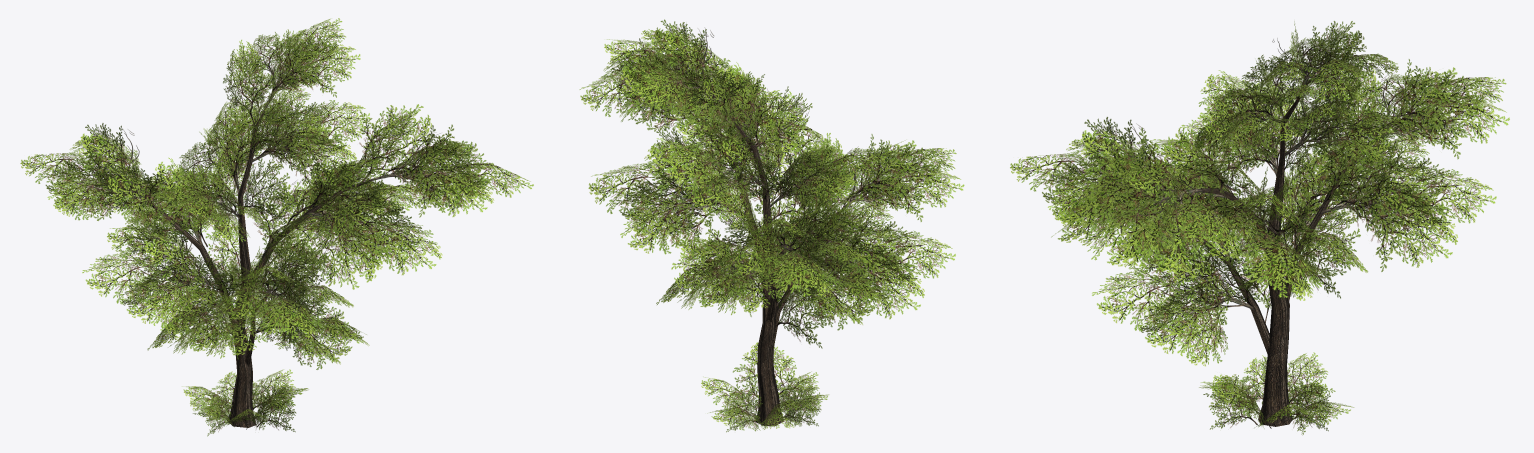
Rendered from tree901.glb.
The picture shows the model from 3 angles, left to right: view 1: azimuth 30°, elevation 25°; view 2: azimuth 150°, elevation 25°; view 3: azimuth 270°, elevation 25°; orthographic projection. The views are drawn at different scales.
Parts seen in each view (by area): view 1: tree901-col; view 2: tree901-col; view 3: tree901-col.
Part boxes in pixels (bbox=[...]): tree901-col: bbox=[20, 18, 533, 436]; tree901-col: bbox=[579, 19, 964, 432]; tree901-col: bbox=[1010, 21, 1509, 435].
Size of the model in its own units: 43.41 by 41.62 by 43.91.
3 materials, 3 textured.
